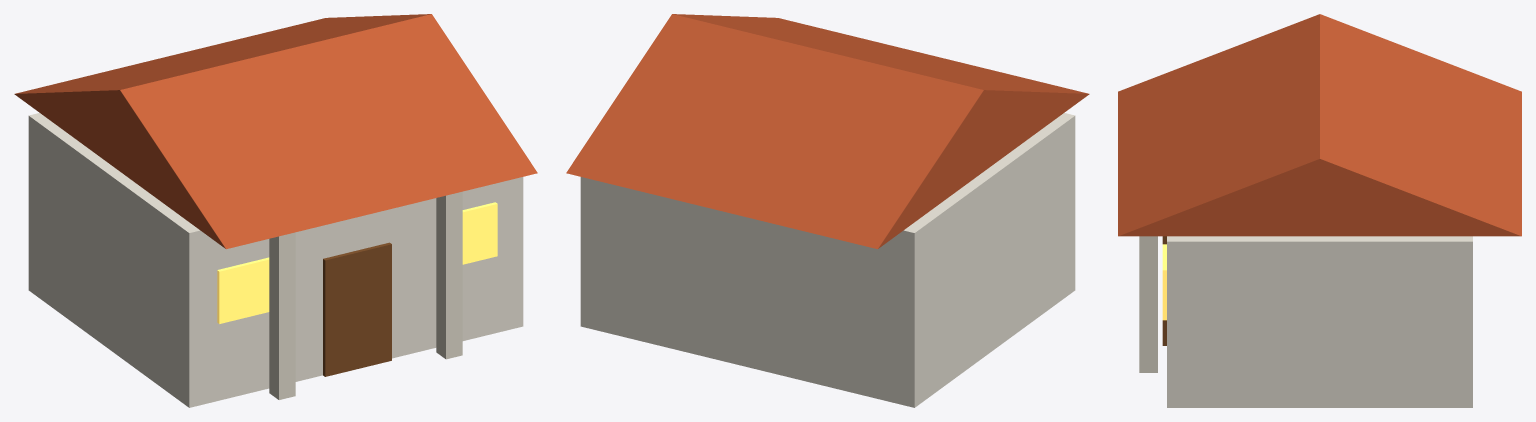
The model's file is villa.glb.
3 views of the same model, side by side, from view 1: azimuth 30°, elevation 25°; view 2: azimuth 150°, elevation 25°; view 3: azimuth 270°, elevation 25° (orthographic). The views are drawn at different scales.
Parts seen in each view (by area): view 1: villa; view 2: villa; view 3: villa.
Boxes of the visible parts, x1,y1,x2,y2 form: villa: (14, 14, 537, 407); villa: (566, 14, 1089, 407); villa: (1118, 14, 1521, 407).
Bounding box in the file's own units: 6 × 4.4 × 6.6.
